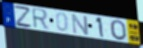0: (55, 12, 70, 33)
1: (95, 17, 105, 39)
N: (71, 13, 90, 37)
O: (109, 20, 128, 42)
R: (31, 7, 51, 32)
Z: (13, 4, 34, 29)
